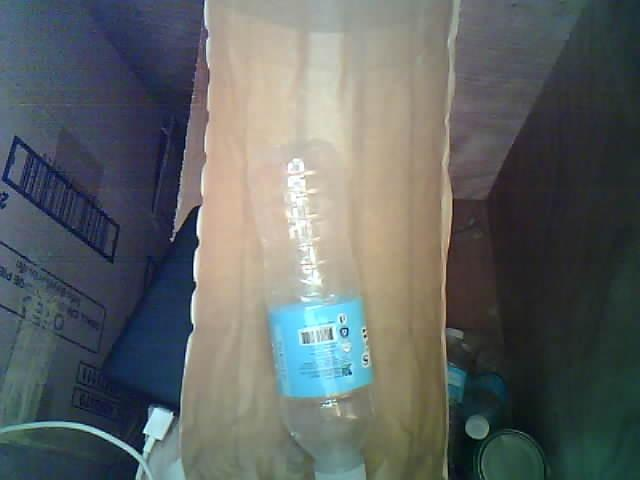small_bottle: (236, 135, 396, 480)
